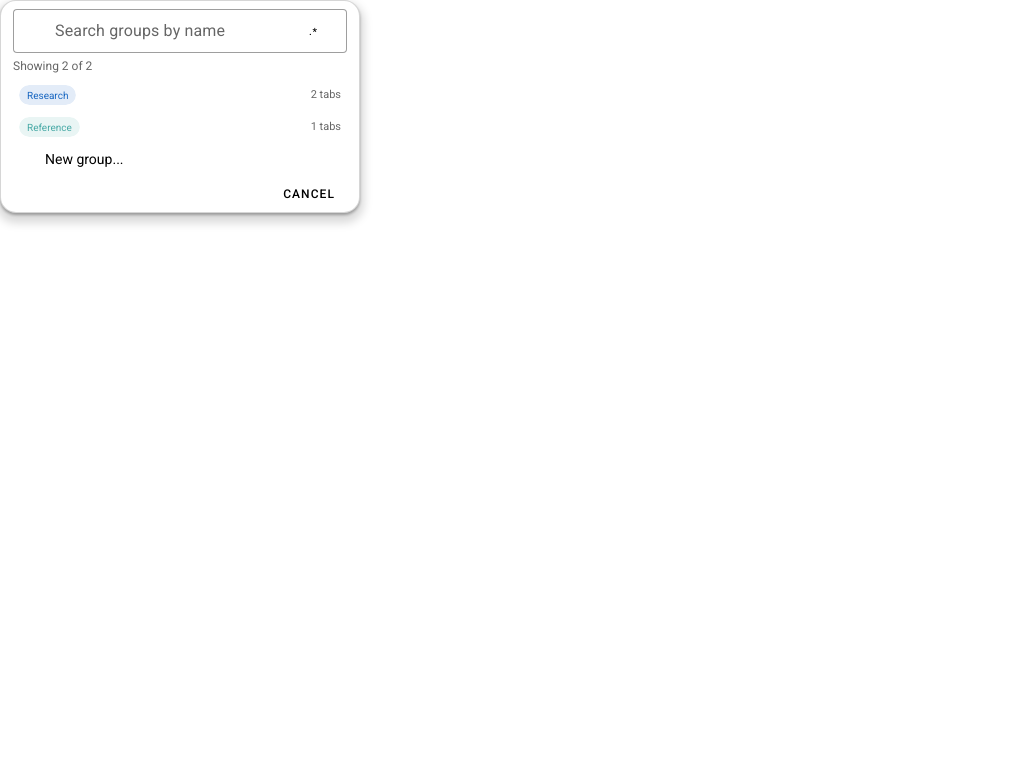
Test: searching the picker › narrows to groups whose name matches, in plain text
The image size is (1024, 768).
Type "Res" into the search field labelled "Search groups by name".
click(148, 29); type("Res")  # box [49,9,247,49]
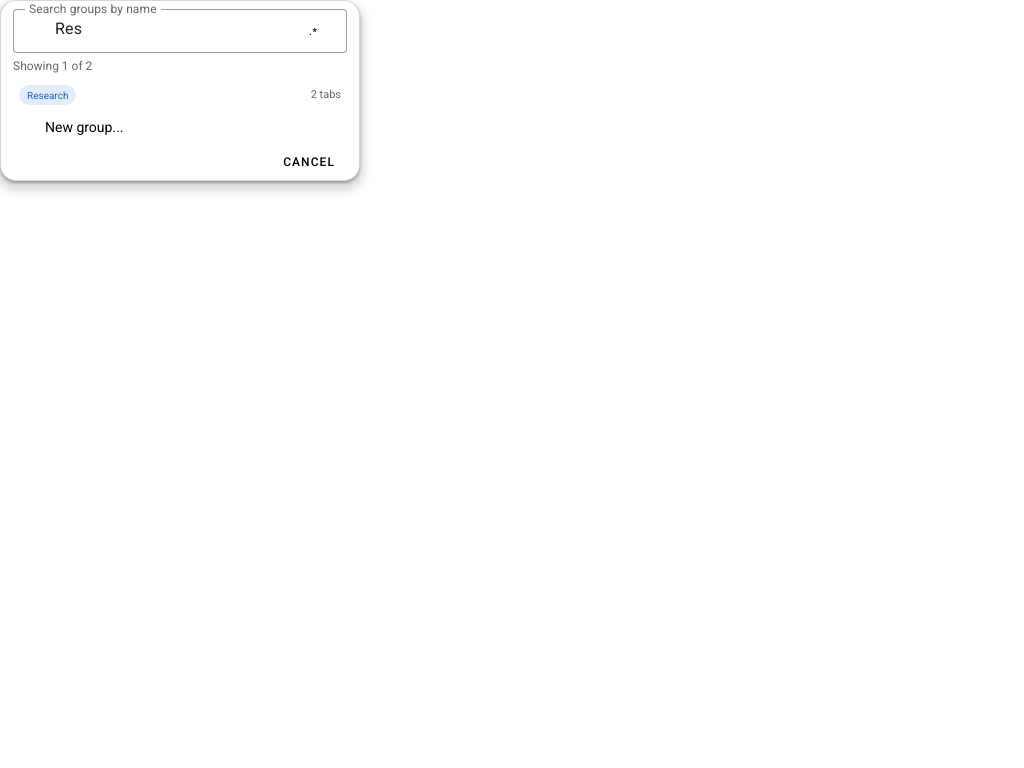
Expected: the option "Research 2 tabs" is shown, [9,79,351,111]
Result: the number of options is 2 at [9,79,351,111]; [45,119,124,135]
